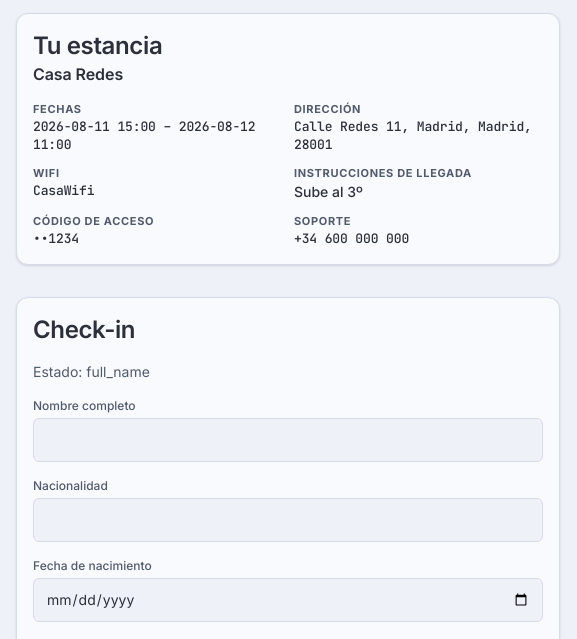
Scenario: check-in journey (R2, task 4.3) › sends exactly the six contract fields and shows both localized statuses
Step 1. Type "Ana" into the field labelled "Nombre completo" → (288, 440), box [33,418,543,462]
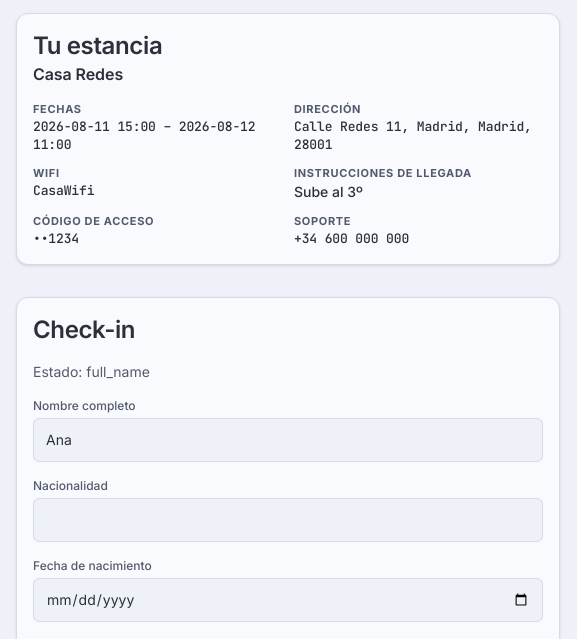
Step 2. Type "ES" into the field labelled "Nacionalidad" → (288, 520), box [33,498,543,542]
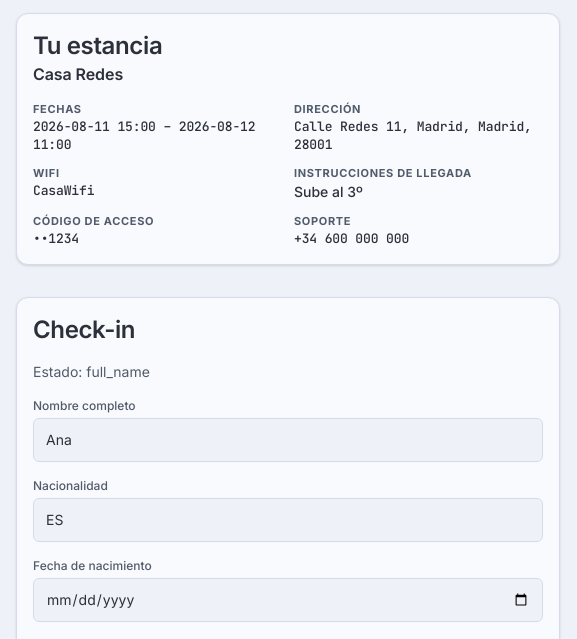
Step 3. Type "1990-01-01" into the date field labelled "Fecha de nacimiento" → (288, 600), box [33,578,543,622]
(page scrolled)
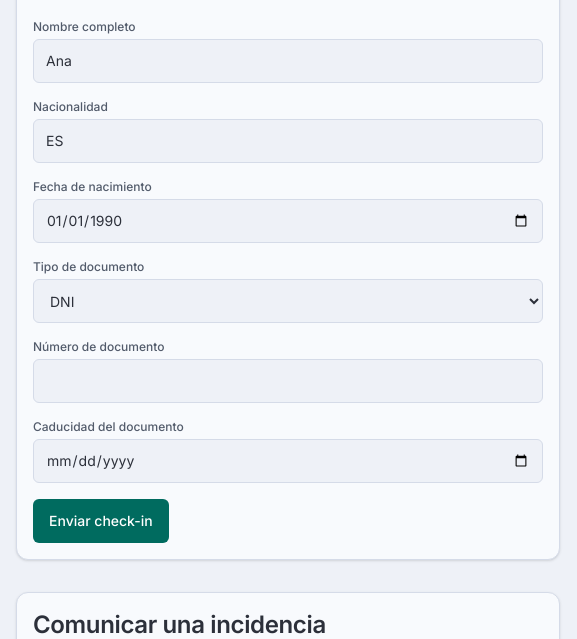
Step 4. Type "X123" into the field labelled "Número de documento" → (288, 381), box [33,359,543,403]
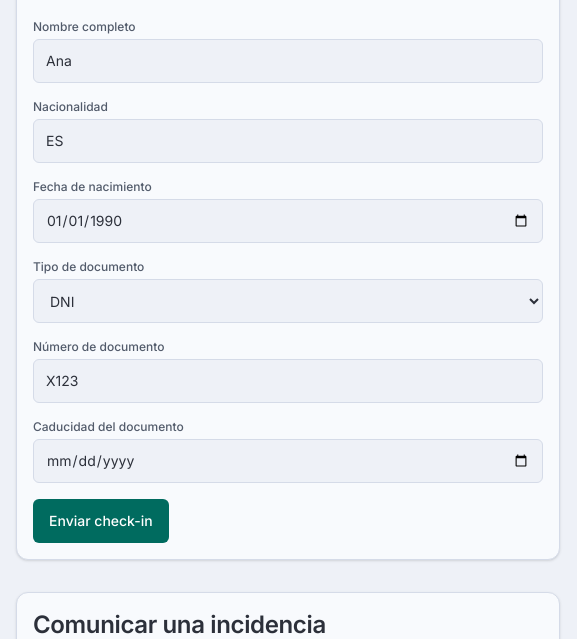
Step 5. Type "2030-01-01" into the date field labelled "Caducidad del documento" → (288, 461), box [33,439,543,483]
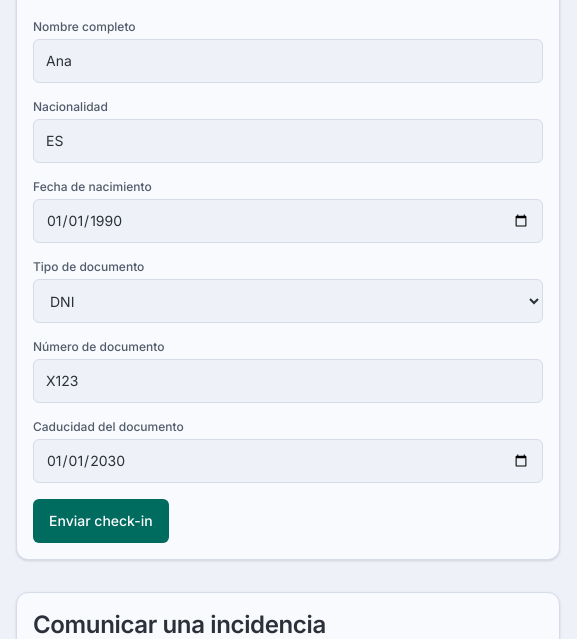
Step 6. Click the button "Enviar check-in" → (101, 521), box [33,499,169,543]
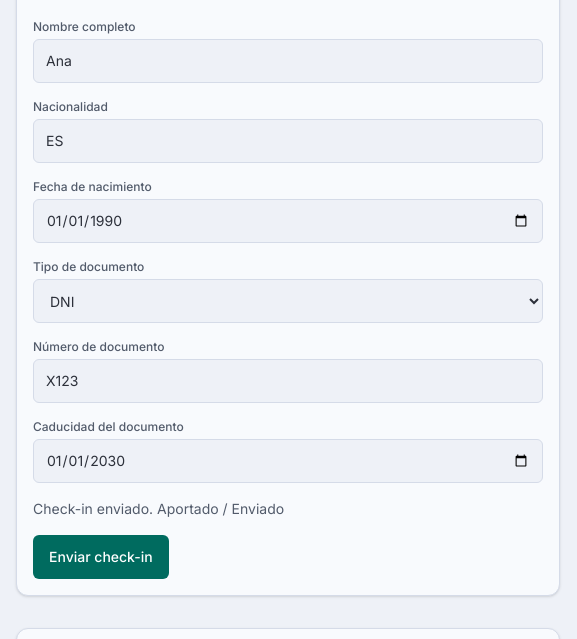
expect the text "Check-in enviado. Aportado / Enviado" is shown: met, box [33,500,284,517]
